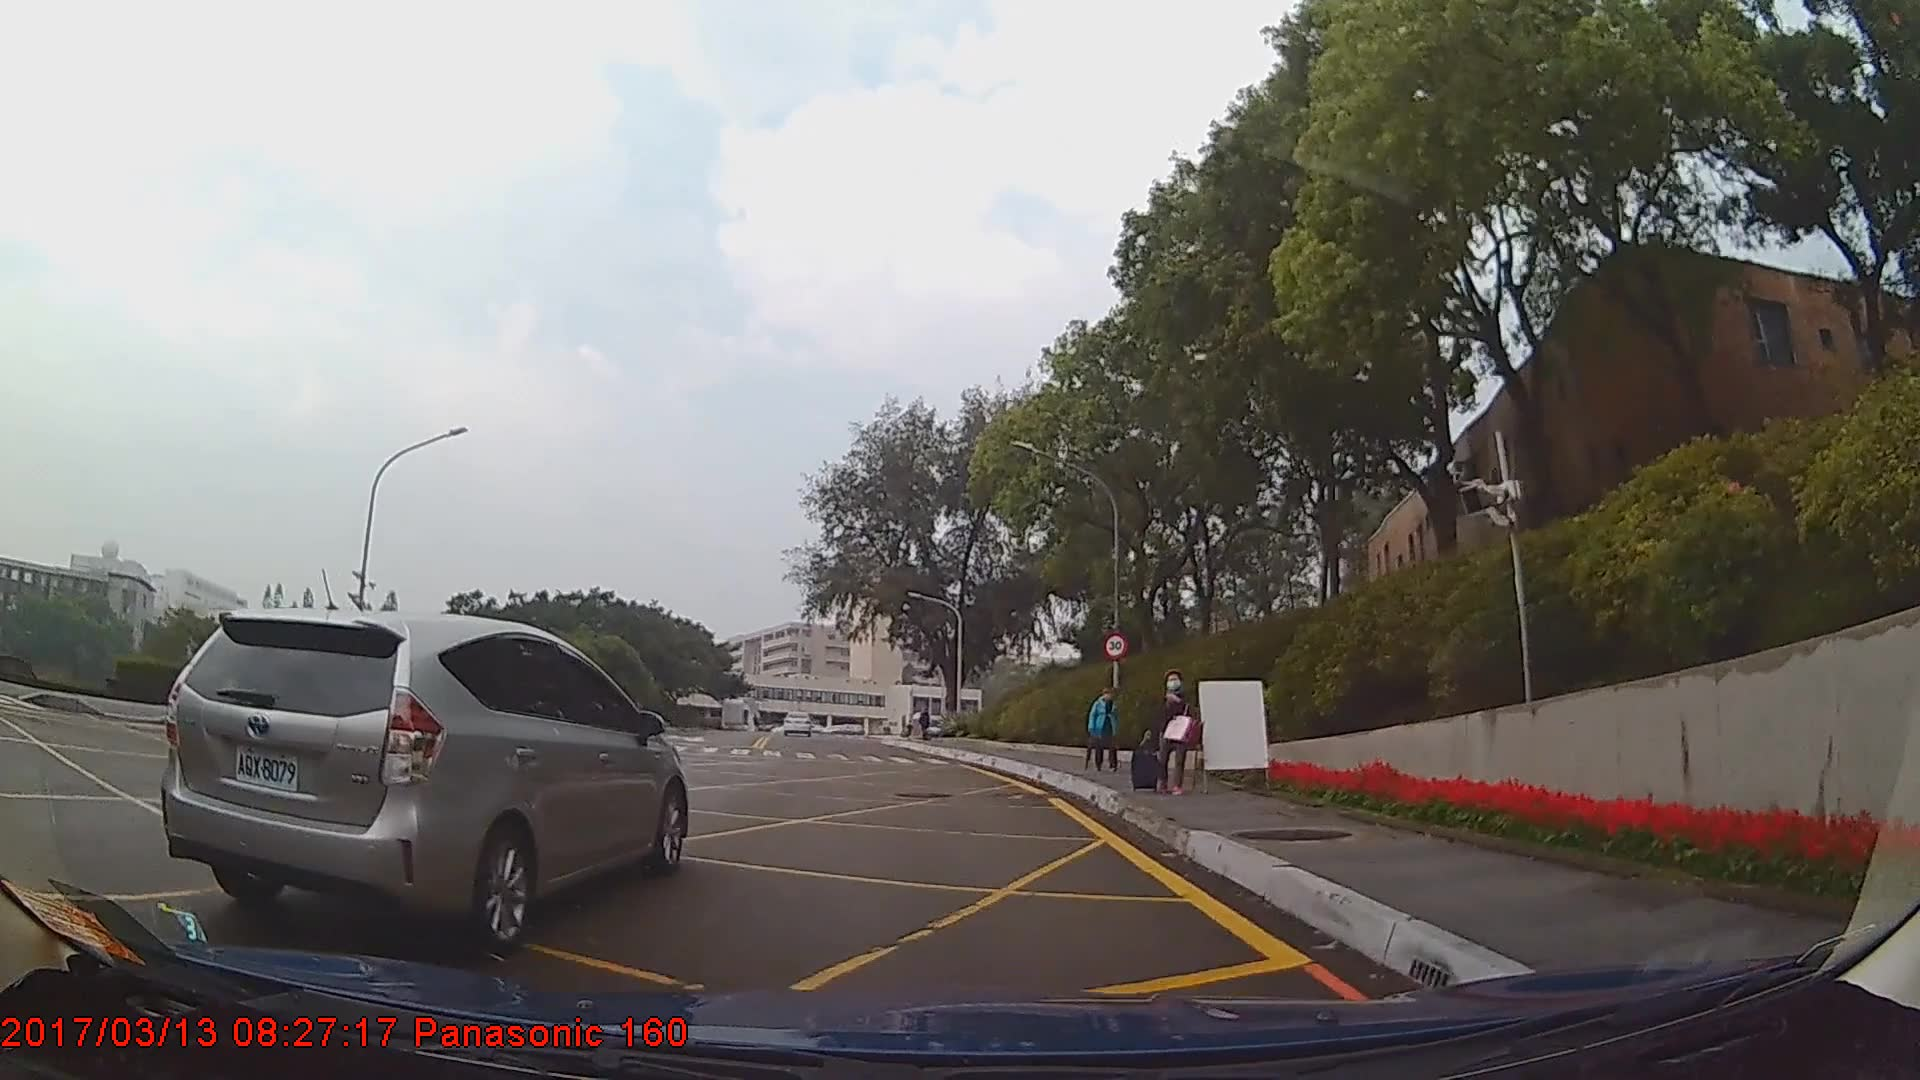pedestrian: (1134, 671, 1203, 802), (1087, 685, 1122, 774)
vehicle: (155, 606, 687, 954), (781, 707, 814, 737)
